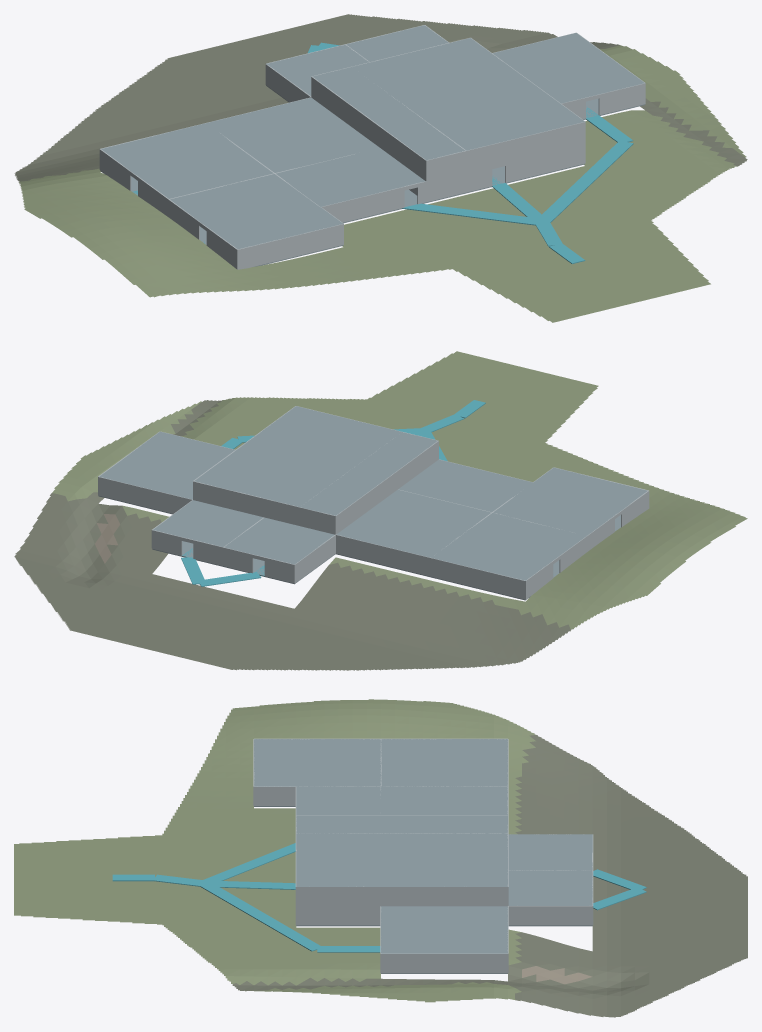
The model's file is terrain-assembly.glb.
The picture shows the model from 3 angles, top to bottom: view 1: azimuth 30°, elevation 25°; view 2: azimuth 150°, elevation 25°; view 3: azimuth 270°, elevation 25°; orthographic projection. The views are drawn at different scales.
Parts seen in each view (by area): view 1: Saved editor macroterrain WLD-13, Ceiling cap processing, Ceiling cap boiler, Ceiling cap bunk, Ceiling cap mess, Ceiling cap cold, Ceiling cap wash, Wall processing S.001, Ceiling cap gallery, Wall processing S, Wall bunk S, Ceiling cap office (+13 smaller); view 2: Saved editor macroterrain WLD-13, Ceiling cap processing, Ceiling cap mess, Ceiling cap boiler, Ceiling cap bunk, Ceiling cap cold, Ceiling cap wash, Ceiling cap gallery, Ceiling cap office, Ceiling cap stores, Wall mess N, Wall boiler N (+13 smaller); view 3: Saved editor macroterrain WLD-13, Ceiling cap processing, Ceiling cap cold, Ceiling cap bunk, Ceiling cap mess, Wall processing E.001, Ceiling cap boiler, Ceiling cap office, Ceiling cap stores, Wall cold E, Ceiling cap wash, Wall stores E (+6 smaller).
Part boxes in pixels (<box>): Saved editor macroterrain WLD-13: <box>14,14,747,322</box>; Ceiling cap processing: <box>313,38,584,159</box>; Ceiling cap boiler: <box>206,97,379,172</box>; Ceiling cap bunk: <box>170,174,342,249</box>; Ceiling cap mess: <box>101,123,273,198</box>; Ceiling cap cold: <box>493,33,644,103</box>; Ceiling cap wash: <box>276,148,425,206</box>; Wall processing S.001: <box>505,122,585,182</box>; Ceiling cap gallery: <box>313,67,439,160</box>; Wall processing S: <box>426,144,492,201</box>; Wall bunk S: <box>237,224,343,269</box>; Ceiling cap office: <box>266,44,368,95</box>; Saved editor macroterrain WLD-13: <box>14,351,747,670</box>; Ceiling cap processing: <box>194,406,437,515</box>; Ceiling cap mess: <box>431,513,586,580</box>; Ceiling cap boiler: <box>336,489,491,557</box>; Ceiling cap bunk: <box>493,467,647,535</box>; Ceiling cap cold: <box>99,431,234,499</box>; Ceiling cap wash: <box>398,459,532,512</box>; Ceiling cap gallery: <box>300,438,435,515</box>; Ceiling cap office: <box>224,517,334,564</box>; Ceiling cap stores: <box>153,500,263,546</box>; Wall mess N: <box>430,557,525,599</box>; Wall boiler N: <box>336,534,430,576</box>; Saved editor macroterrain WLD-13: <box>14,699,747,1017</box>; Ceiling cap processing: <box>296,815,507,886</box>; Ceiling cap cold: <box>381,906,507,953</box>; Ceiling cap bunk: <box>254,739,380,786</box>; Ceiling cap mess: <box>381,739,507,786</box>; Wall processing E.001: <box>296,886,439,925</box>; Ceiling cap boiler: <box>381,786,507,814</box>; Ceiling cap office: <box>508,834,592,870</box>; Ceiling cap stores: <box>508,870,592,905</box>; Wall cold E: <box>381,953,507,973</box>; Ceiling cap wash: <box>296,786,380,814</box>; Wall stores E: <box>508,906,592,925</box>.
Size of the model in its own units: 97 by 11.19 by 104.
